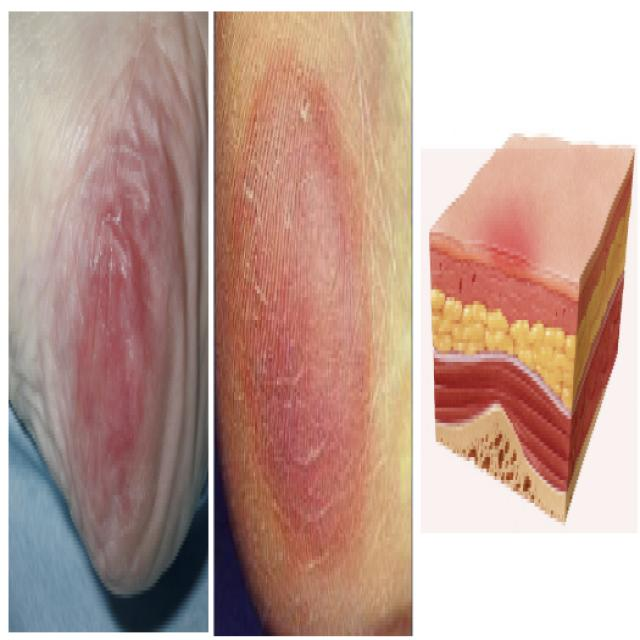stage-1: (232, 51, 370, 557), (69, 141, 163, 536)
